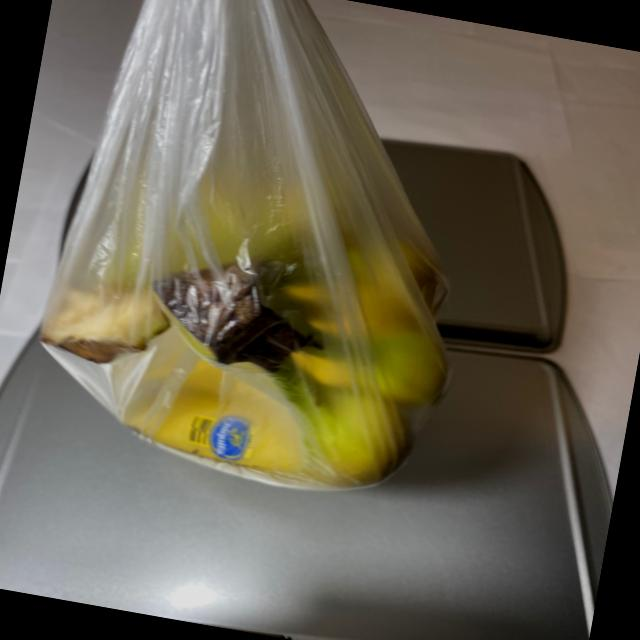banana: (14, 147, 480, 512)
